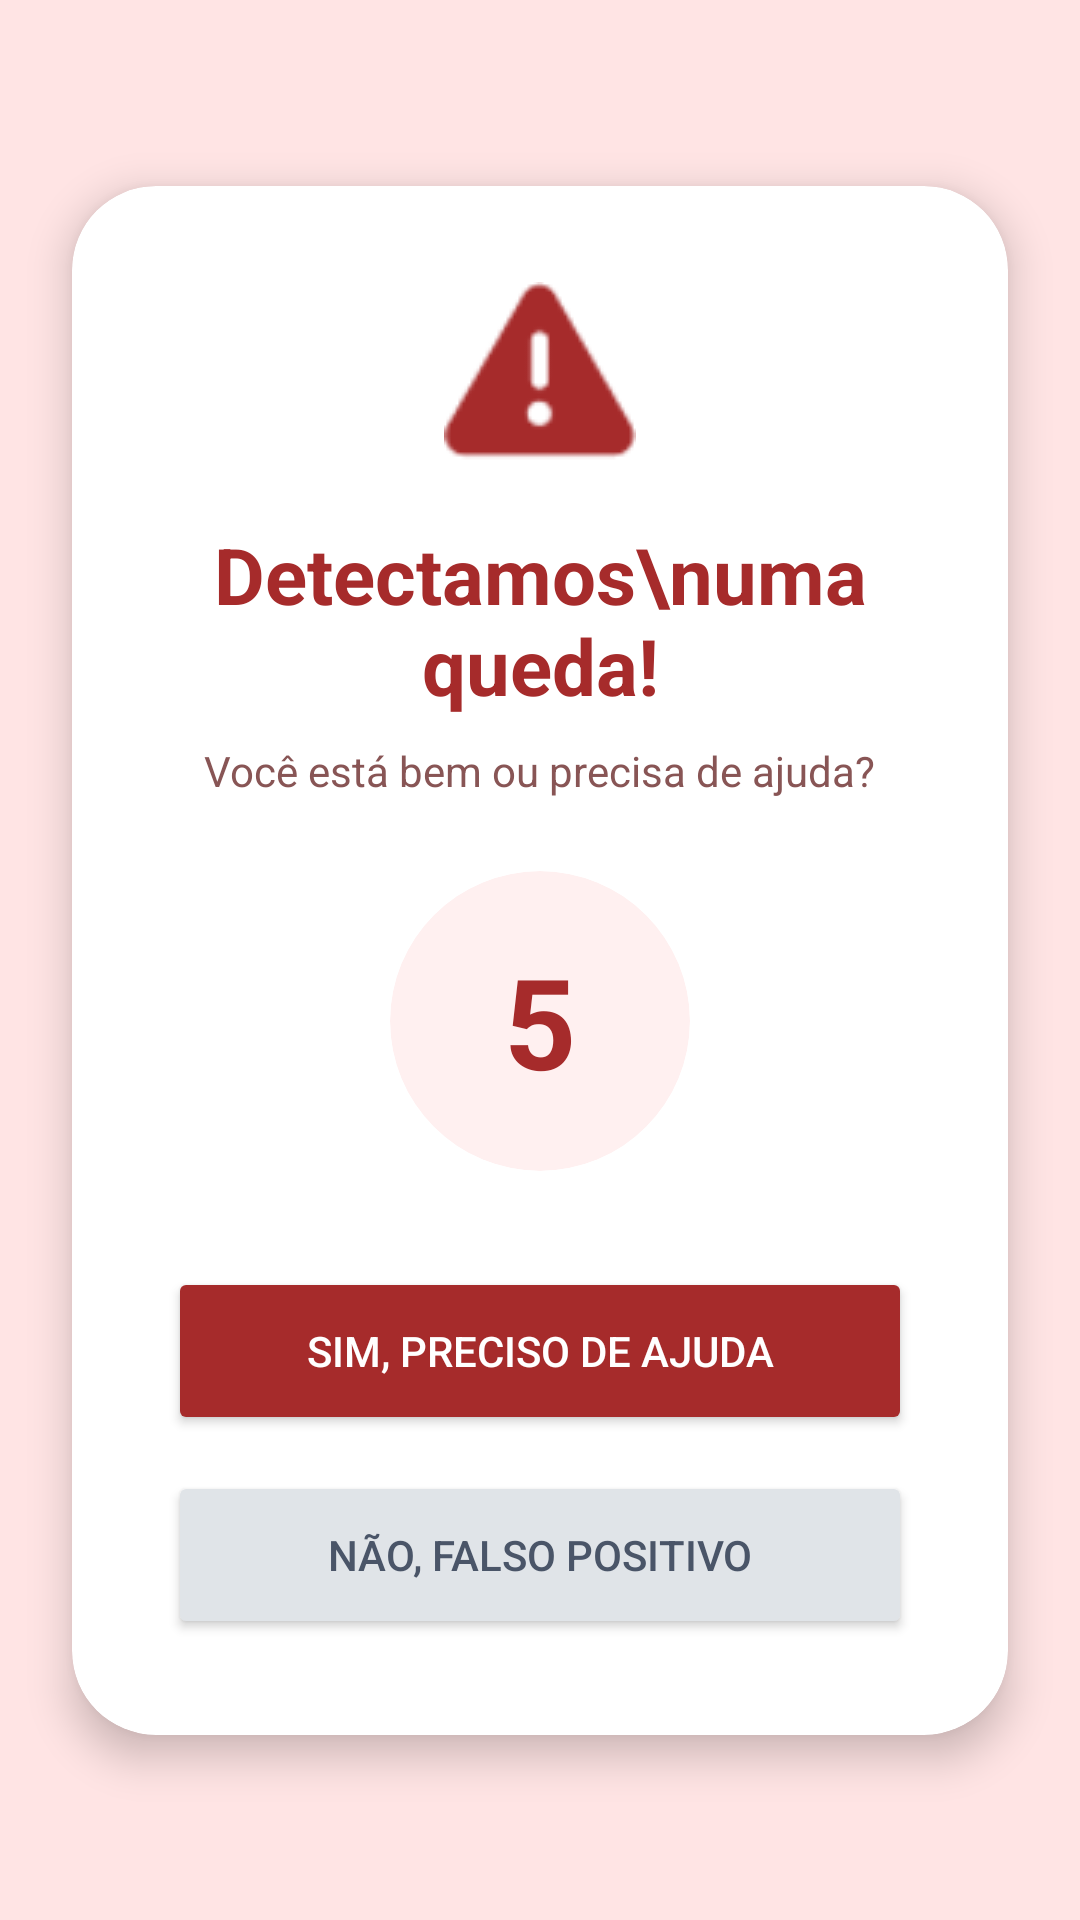

Icons on this 1080px x 1920px Android screen, each with its box as region(x1, y1, x2, y2):
alert: region(444, 282, 636, 457)
